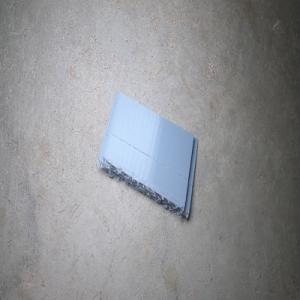PlasticPart: (96, 91, 198, 219)
